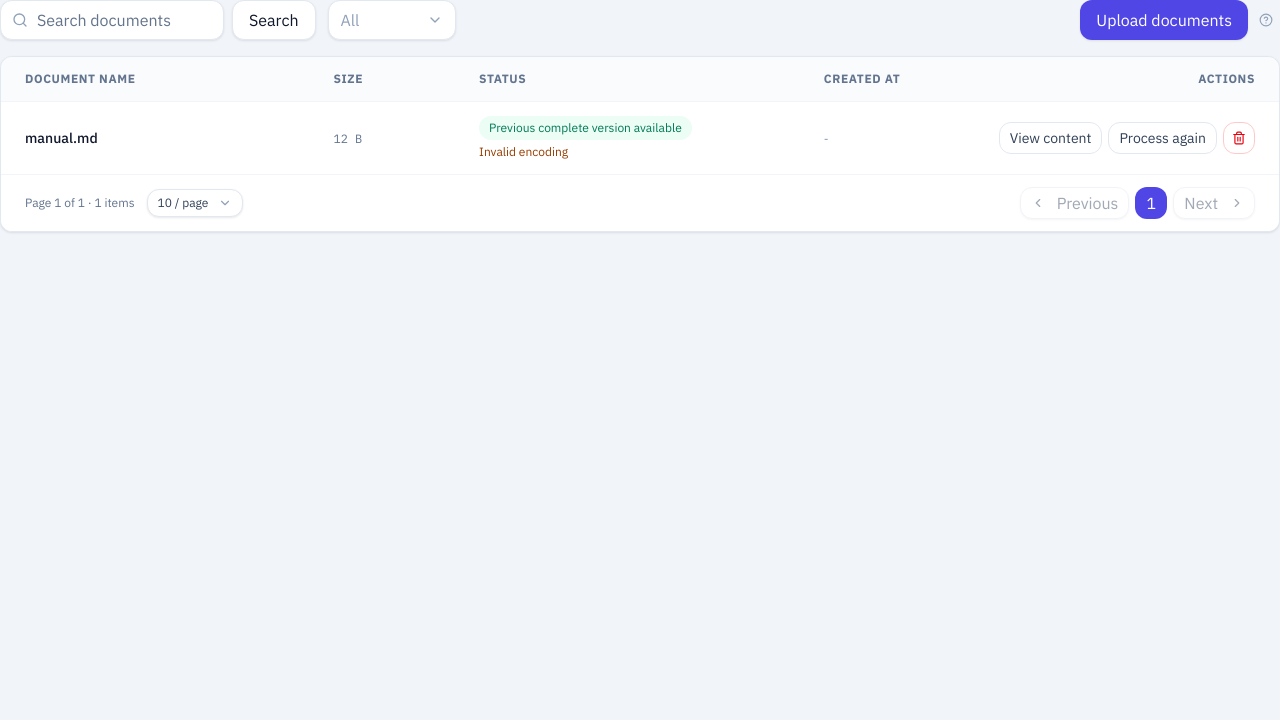
Test: opens a formatted non-PDF preview from the shared view-content action
Click the button "View content" at (1051, 138), box [999, 122, 1102, 154]
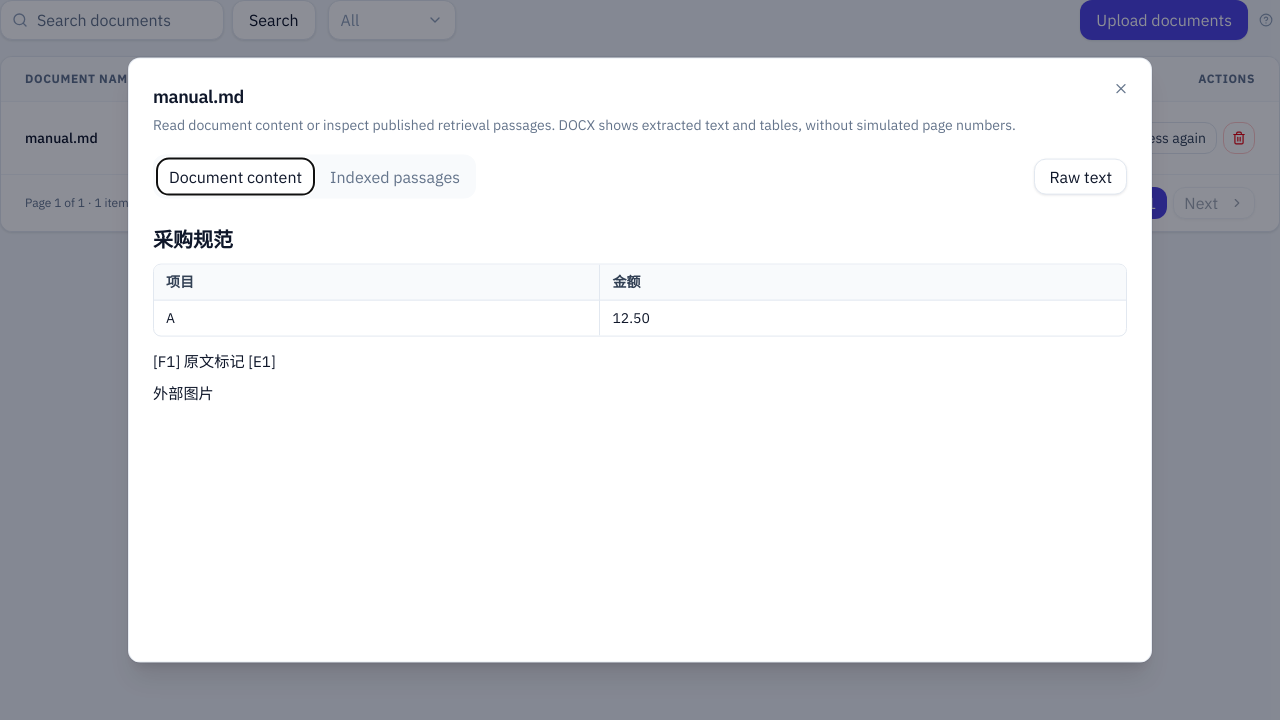
Expected: the heading "采购规范" is shown, [153, 226, 233, 253]
Expected: the cell "12.50" is shown, [600, 300, 1126, 336]
Expected: the text "[F1] 原文标记 [E1]" is shown, [153, 350, 276, 370]
